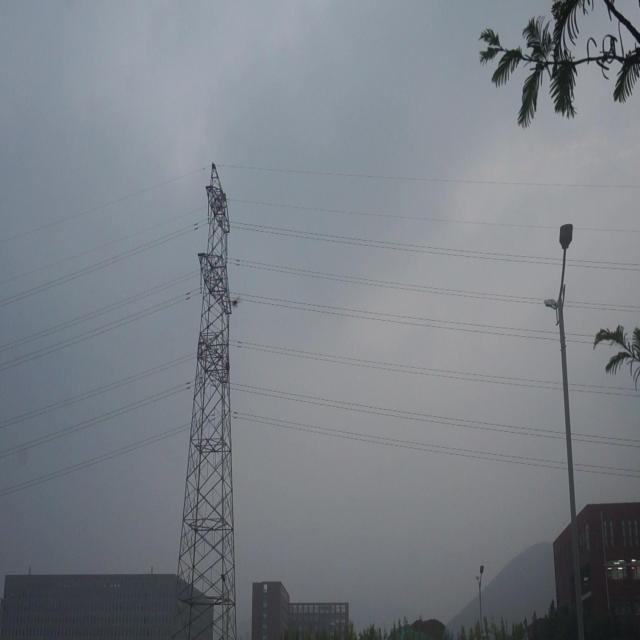drone: (231, 294, 238, 310)
